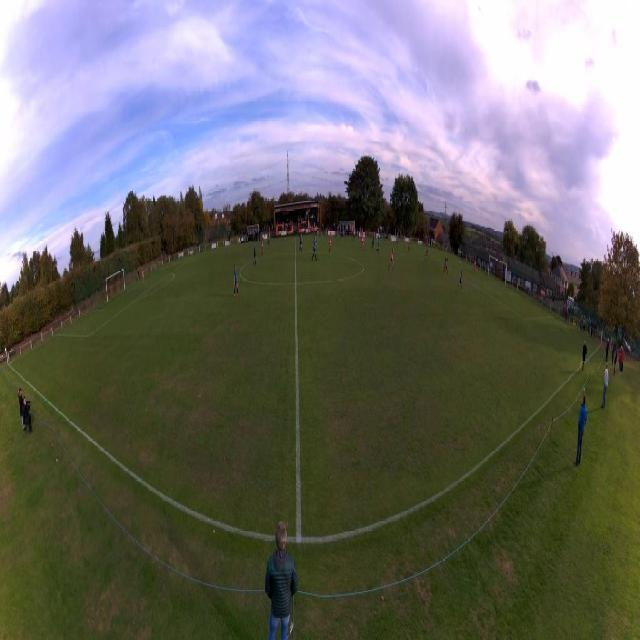ball: (460, 260, 461, 264)
player: (311, 237, 319, 261), (387, 248, 394, 273), (234, 264, 239, 298), (457, 268, 463, 292), (443, 258, 449, 275), (328, 231, 332, 252), (376, 235, 380, 254), (299, 234, 303, 253), (254, 243, 257, 265), (371, 234, 375, 250), (443, 254, 447, 270), (361, 235, 365, 250), (261, 237, 264, 256), (358, 226, 362, 240), (142, 268, 145, 285), (425, 248, 428, 264), (473, 260, 476, 276), (407, 239, 410, 253), (396, 232, 399, 246), (353, 228, 356, 240), (267, 229, 269, 246), (394, 233, 396, 247)
